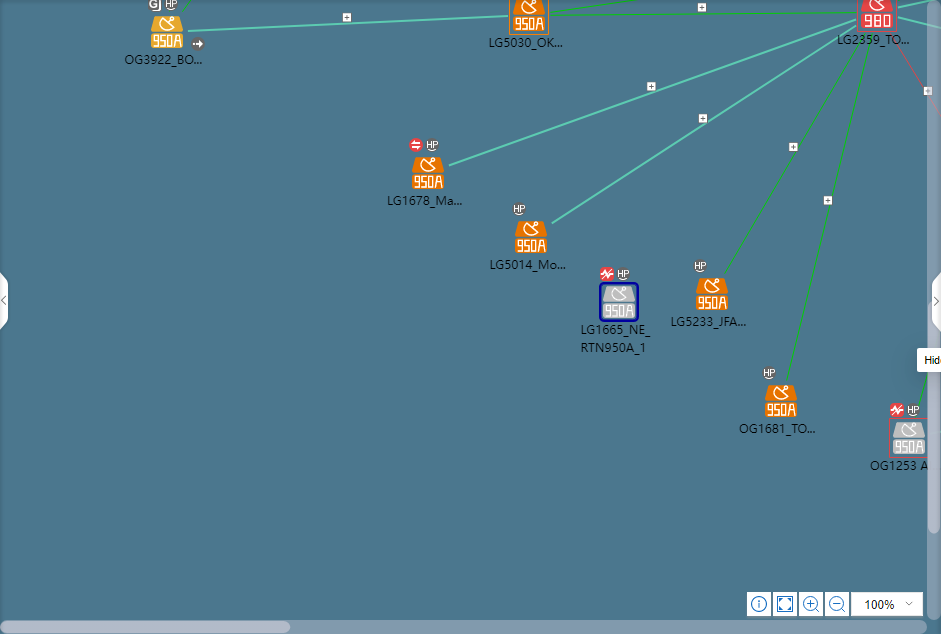Link_Blue: (551, 24, 856, 225), (448, 18, 856, 168), (188, 14, 508, 33), (897, 16, 941, 30), (898, 0, 936, 9)
Link_Green: (723, 33, 866, 274), (785, 33, 873, 382), (550, 12, 855, 16), (550, 0, 636, 13), (917, 373, 927, 408)
Link_Red: (890, 34, 925, 94)
RTN_Gray: (600, 284, 636, 320), (890, 422, 925, 456)
RTN_Orange: (510, 0, 548, 33), (696, 278, 727, 310), (765, 386, 796, 417), (413, 157, 443, 189), (516, 222, 546, 253)
RTN_Red: (858, 0, 895, 31)
RTN_Yellow: (151, 16, 182, 47)
